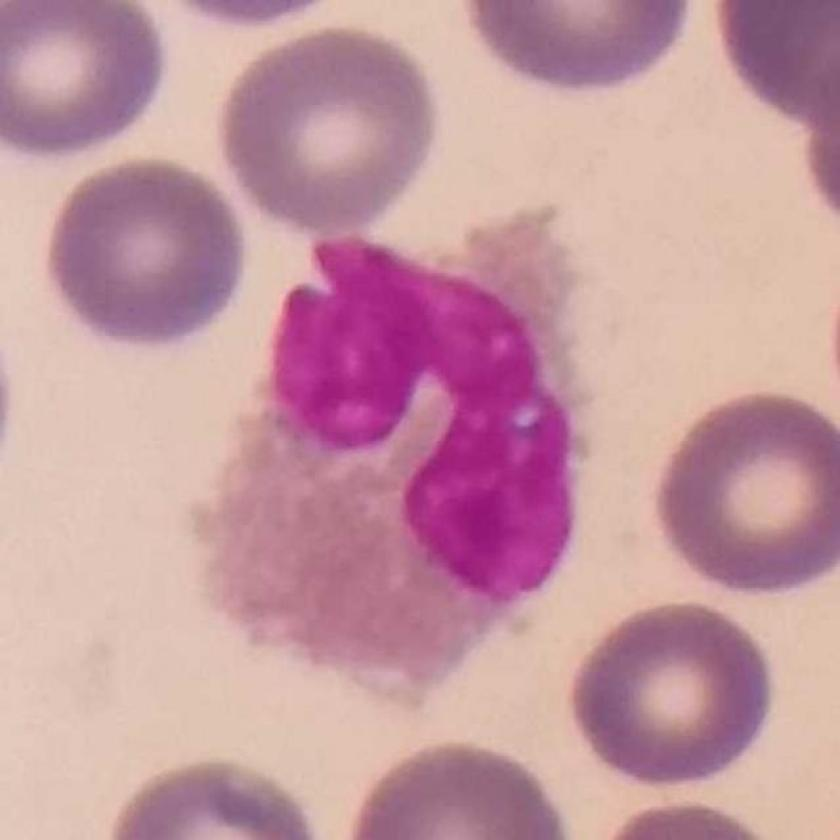eosinophil: (190, 196, 600, 721)
